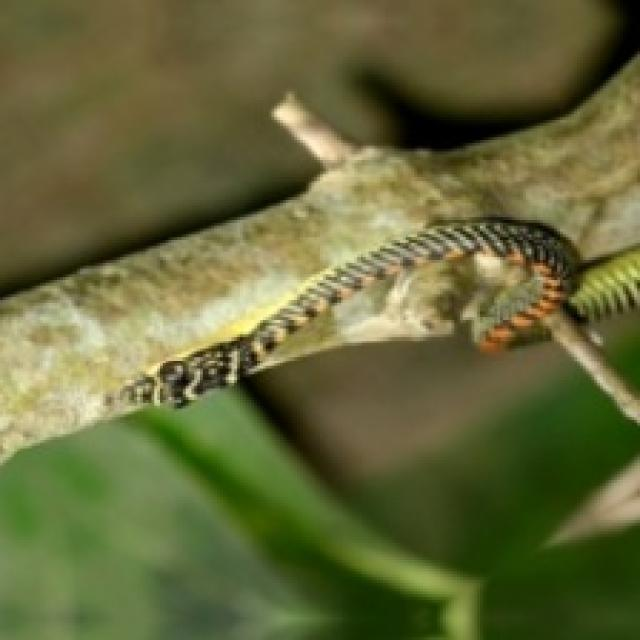paradise tree snake: (106, 217, 637, 414), (111, 217, 577, 406)
